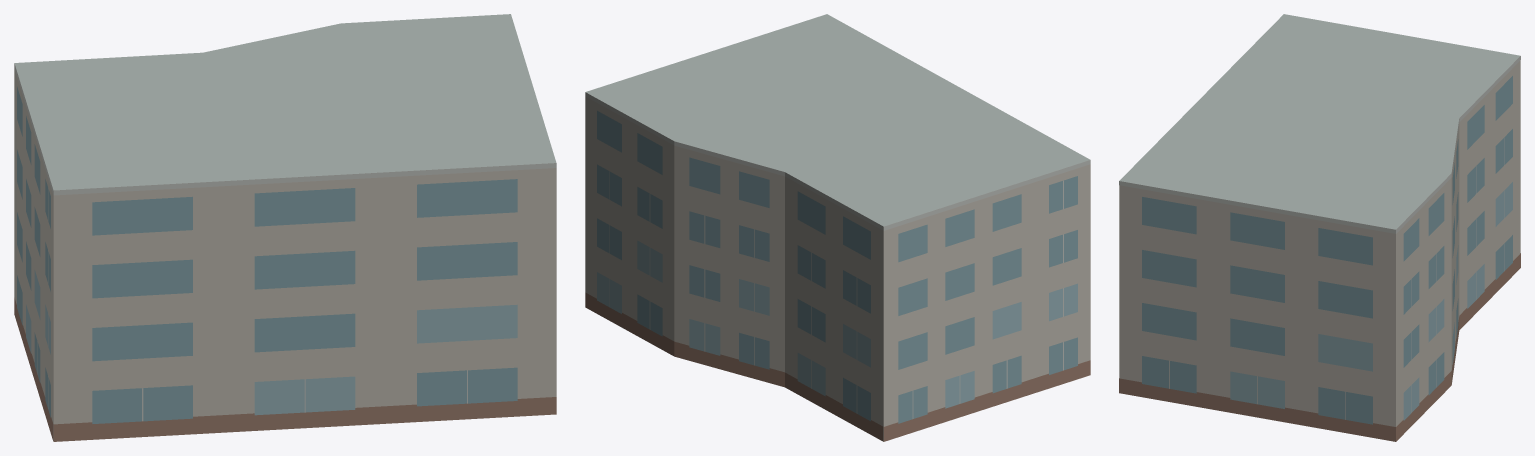
The model's file is residential-9fb079dd-c93b-412c-9af5-c63bfbdc5d83.glb.
3 views of the same model, side by side, from view 1: azimuth 30°, elevation 25°; view 2: azimuth 150°, elevation 25°; view 3: azimuth 270°, elevation 25° (orthographic). The views are drawn at different scales.
Parts seen in each view (by area): view 1: residential-9fb079dd-c93b-412c-9af5-c63bfbdc5d83.tmp; view 2: residential-9fb079dd-c93b-412c-9af5-c63bfbdc5d83.tmp; view 3: residential-9fb079dd-c93b-412c-9af5-c63bfbdc5d83.tmp.
Part boxes in pixels (<box>): residential-9fb079dd-c93b-412c-9af5-c63bfbdc5d83.tmp: <box>14,14,556,441</box>; residential-9fb079dd-c93b-412c-9af5-c63bfbdc5d83.tmp: <box>585,14,1090,441</box>; residential-9fb079dd-c93b-412c-9af5-c63bfbdc5d83.tmp: <box>1119,14,1520,441</box>.
Bounding box in the file's own units: 26.61 × 12.2 × 20.94.
